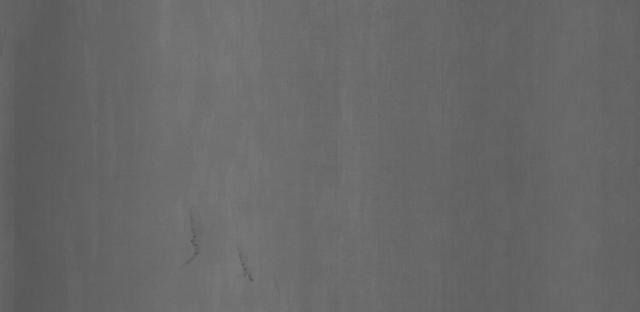water_spot: (175, 197, 263, 294)
